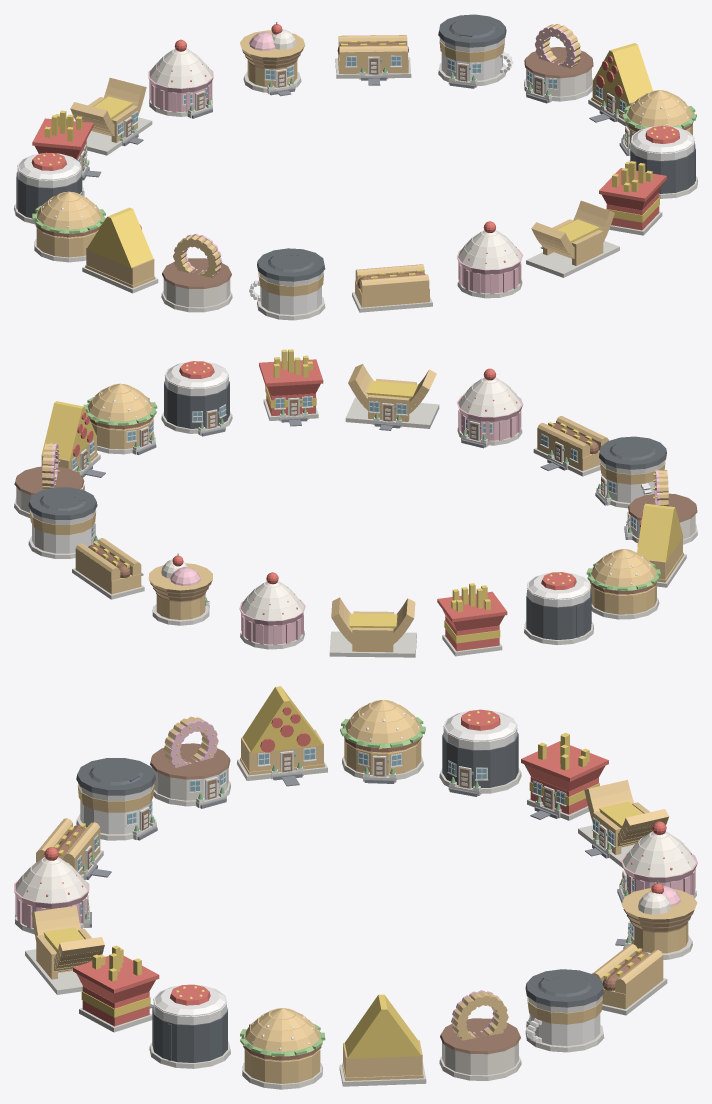
File: food-court.glb
3 renders of one model, top to bottom at view 1: azimuth 30°, elevation 25°; view 2: azimuth 150°, elevation 25°; view 3: azimuth 270°, elevation 25°, orthographic. The views are drawn at different scales.
Parts seen in each view (by area): view 1: food_house_03.001, food_house_03.002, food_house_01.002, food_house_07.001, food_house_02.002, food_house_02.001, food_house_06.002, food_house_00.002, food_house_06.001, food_house_07.002, food_house_09.001, food_house_05.001 (+7 smaller); view 2: food_house_09.001, food_house_09.002, food_house_07.001, food_house_03.001, food_house_00.002, food_house_07.002, food_house_00.001, food_house_06.001, food_house_03.002, food_house_06.002, food_house_08.002, food_house_08.001 (+7 smaller); view 3: food_house_09.002, food_house_09.001, food_house_03.001, food_house_00.002, food_house_01.002, food_house_03.002, food_house_00.001, food_house_01.001, food_house_02.001, food_house_02.002, food_house_08.001, food_house_08.002 (+7 smaller).
Part boxes in pixels (x1,y1,x2,y2): food_house_03.001: [438, 14, 513, 88]; food_house_03.002: [249, 248, 325, 320]; food_house_01.002: [82, 207, 158, 293]; food_house_07.001: [526, 200, 619, 277]; food_house_02.002: [161, 233, 232, 312]; food_house_02.001: [524, 24, 593, 103]; food_house_06.002: [148, 39, 213, 118]; food_house_00.002: [32, 191, 105, 262]; food_house_06.001: [456, 221, 523, 298]; food_house_07.002: [70, 77, 152, 155]; food_house_09.001: [629, 125, 697, 198]; food_house_05.001: [240, 22, 305, 96]; food_house_09.001: [161, 361, 232, 436]; food_house_09.002: [524, 572, 593, 645]; food_house_07.001: [345, 364, 439, 430]; food_house_03.001: [28, 487, 97, 558]; food_house_00.002: [586, 549, 660, 619]; food_house_07.002: [329, 597, 416, 657]; food_house_00.001: [83, 383, 157, 455]; food_house_06.001: [456, 368, 523, 448]; food_house_03.002: [595, 436, 666, 508]; food_house_06.002: [239, 572, 305, 649]; food_house_08.002: [437, 583, 507, 656]; food_house_08.001: [259, 349, 323, 426]; food_house_09.002: [439, 709, 521, 796]; food_house_09.001: [149, 984, 230, 1068]; food_house_03.001: [525, 969, 604, 1052]; food_house_00.002: [340, 700, 425, 783]; food_house_01.002: [237, 686, 327, 786]; food_house_03.002: [76, 758, 157, 840]; food_house_00.001: [240, 1008, 325, 1089]; food_house_01.001: [339, 994, 426, 1086]; food_house_02.001: [439, 990, 521, 1080]; food_house_02.002: [150, 716, 230, 808]; food_house_08.001: [73, 945, 159, 1032]; food_house_08.002: [521, 732, 608, 820].
Bounding box in the file's own units: 87.87 × 8.98 × 73.76.
